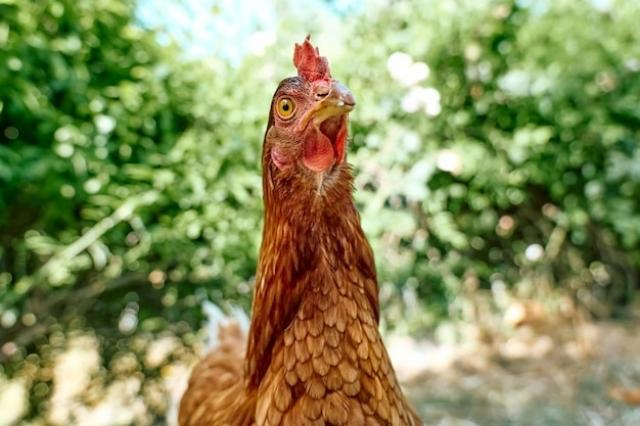Chicken: (177, 34, 426, 426)
